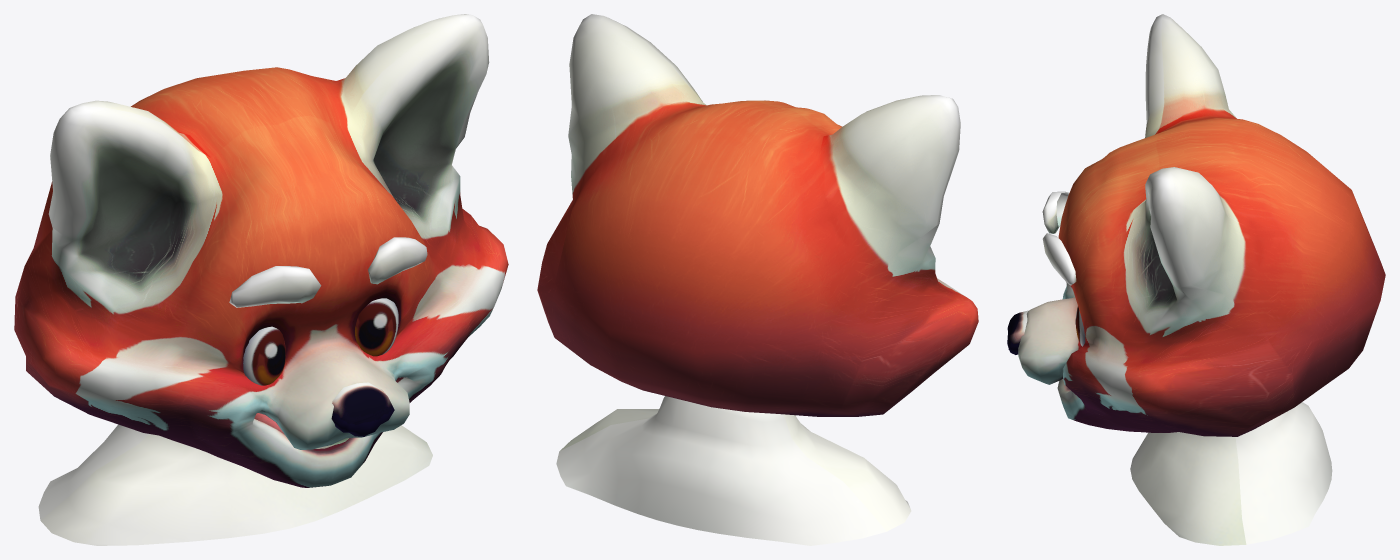
File: panda.glb
The picture shows the model from 3 angles, left to right: view 1: azimuth 30°, elevation 25°; view 2: azimuth 150°, elevation 25°; view 3: azimuth 270°, elevation 25°; orthographic projection. The views are drawn at different scales.
Parts seen in each view (by area): view 1: Panda.001, Body, EyeR, EyeL; view 2: Panda.001, Body; view 3: Panda.001, Body.
Part boxes in pixels (<box>): Panda.001: <box>14,14,508,487</box>; Body: <box>38,424,432,545</box>; EyeR: <box>355,298,398,356</box>; EyeL: <box>243,326,285,385</box>; Panda.001: <box>537,14,978,416</box>; Body: <box>556,396,911,545</box>; Panda.001: <box>1007,14,1385,436</box>; Body: <box>1130,402,1332,545</box>.
Bounding box in the file's own units: 2.52 × 2.38 × 2.17.
2 materials, 2 textured.
